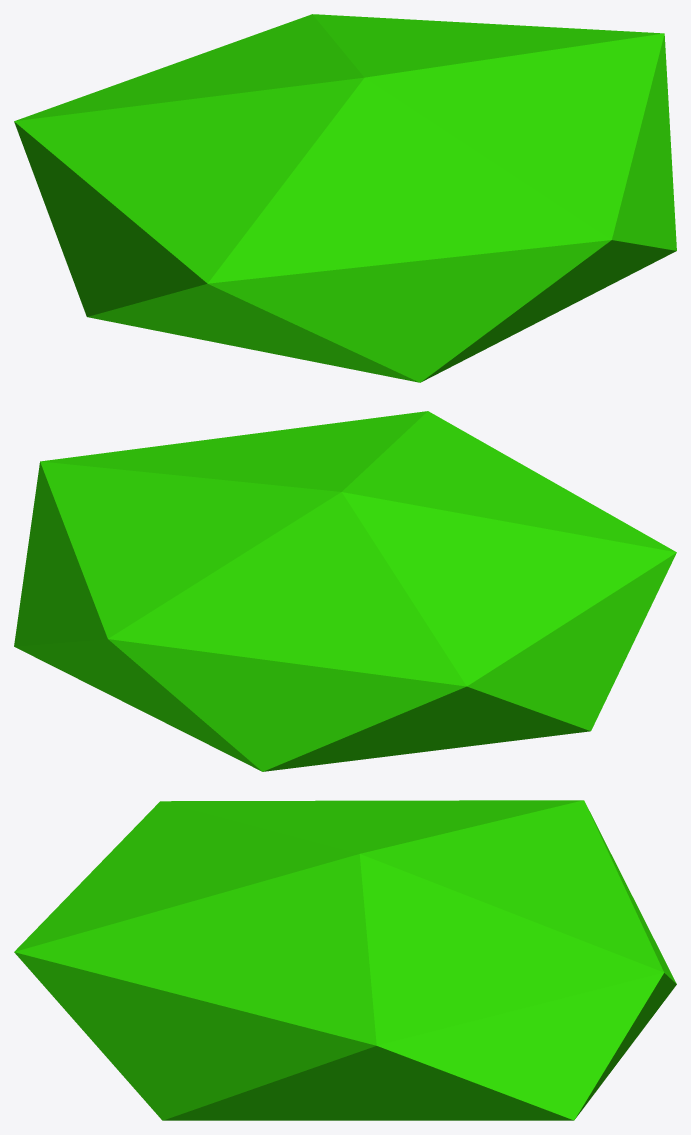
The model's file is Island5xTop.glb.
3 renders of one model, top to bottom at view 1: azimuth 30°, elevation 25°; view 2: azimuth 150°, elevation 25°; view 3: azimuth 270°, elevation 25°, orthographic. The views are drawn at different scales.
Visible parts, largest first — view 1: Island5xTop; view 2: Island5xTop; view 3: Island5xTop.
Part boxes in pixels (<box>): Island5xTop: <box>14,14,676,382</box>; Island5xTop: <box>14,411,676,771</box>; Island5xTop: <box>14,800,676,1120</box>.
Bounding box in the file's own units: 4.59 × 1.47 × 4.46.
